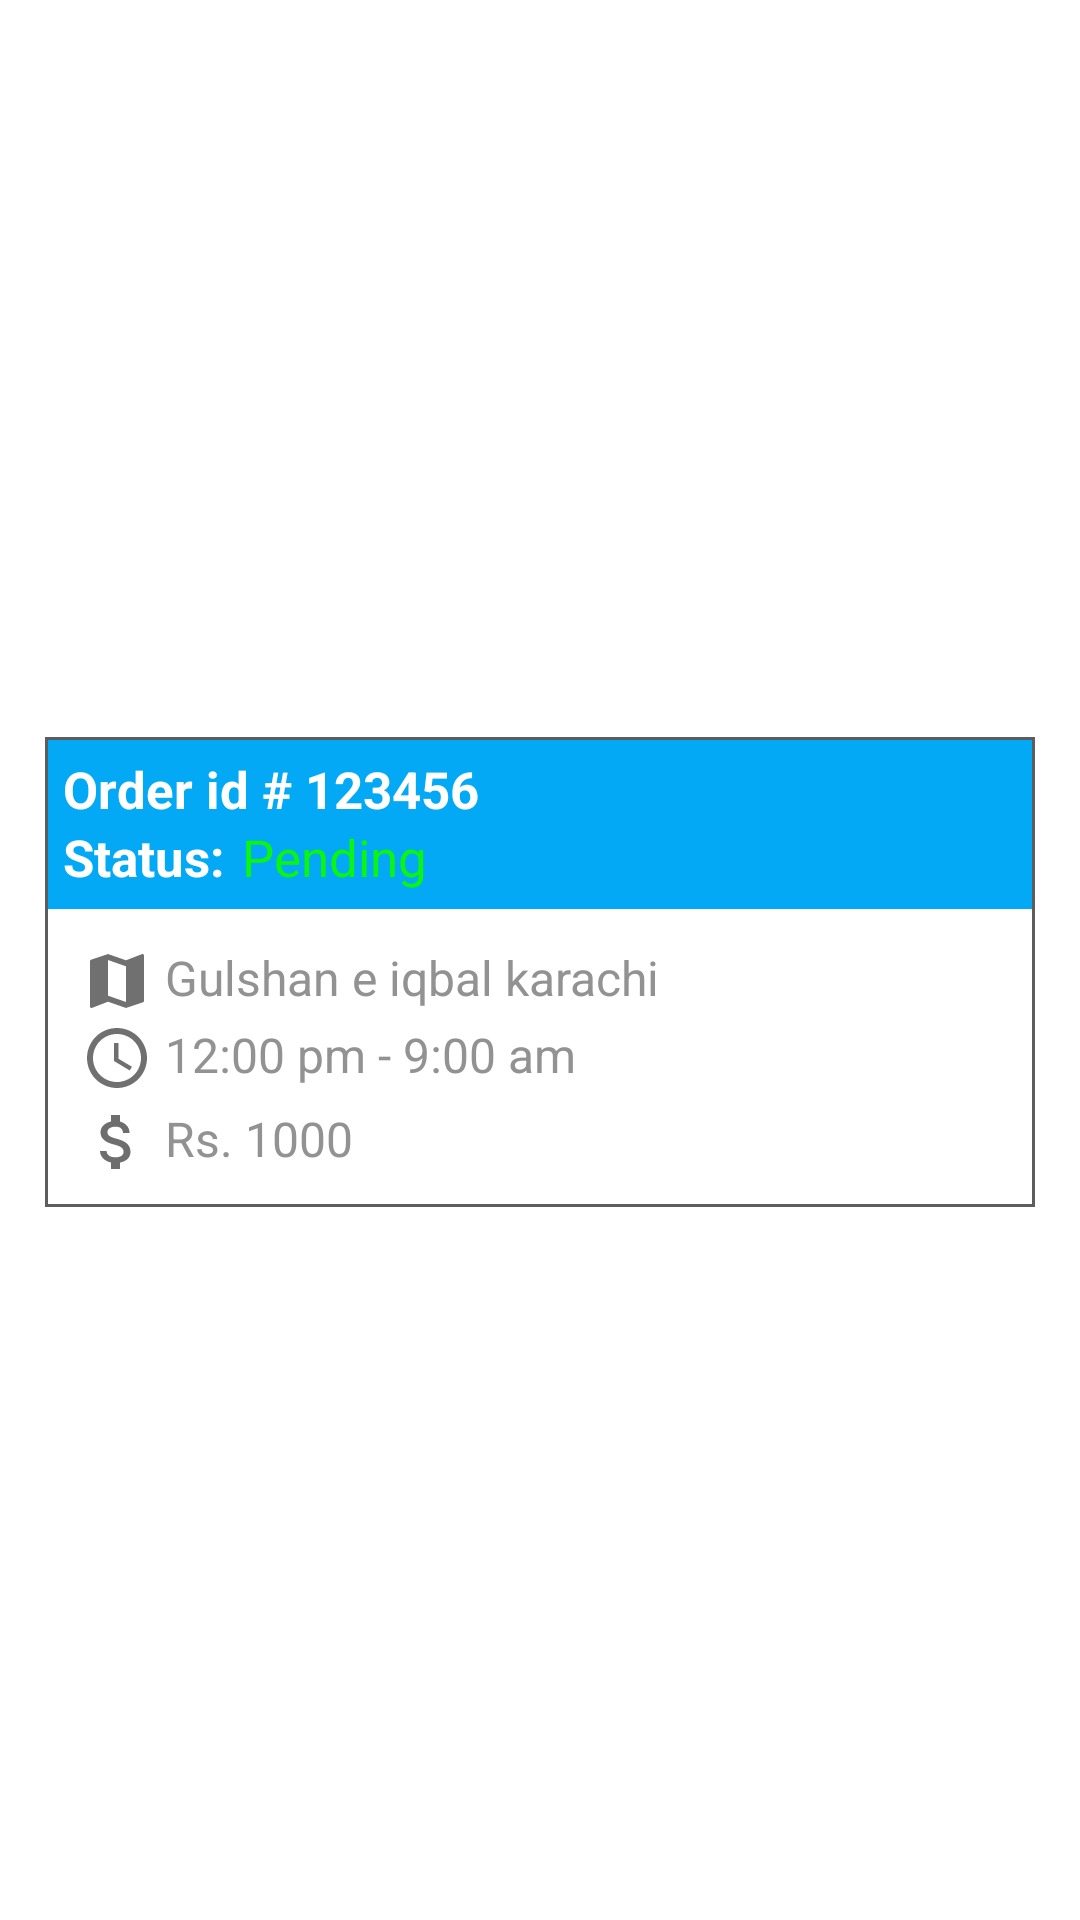

Locate icon controls on the screen. Image size 1080px x 1920px, boxes as BBox(x1, y1, x2, y2).
access time: BBox(87, 1028, 147, 1088)
attach money: BBox(100, 1115, 131, 1169)
map: BBox(90, 954, 144, 1008)
